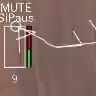hacks_1: (1, 2, 96, 83)
